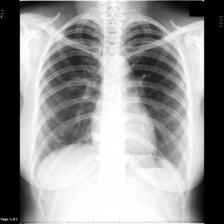tuberculosis: (28, 10, 194, 186)
